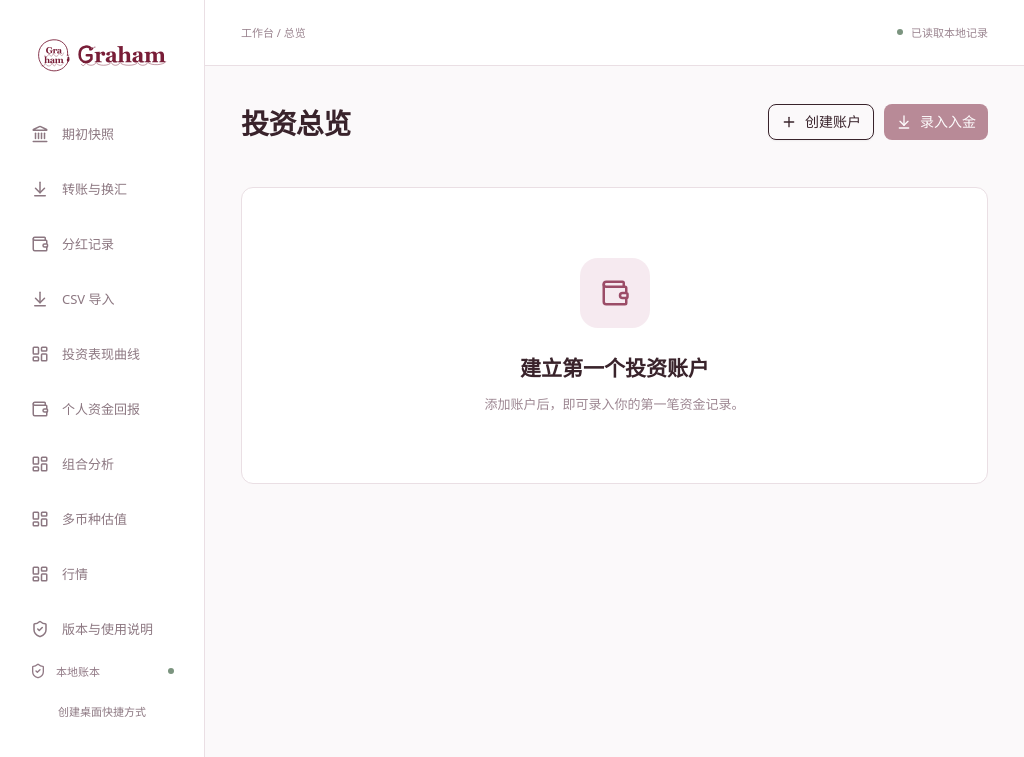
公开汇率诊断结果在定时读取缓存后仍可核对
The width and height of the screenshot is (1024, 757).
(page scrolled)
Click the button "多币种估值": (102, 518) [18,496,186,541]
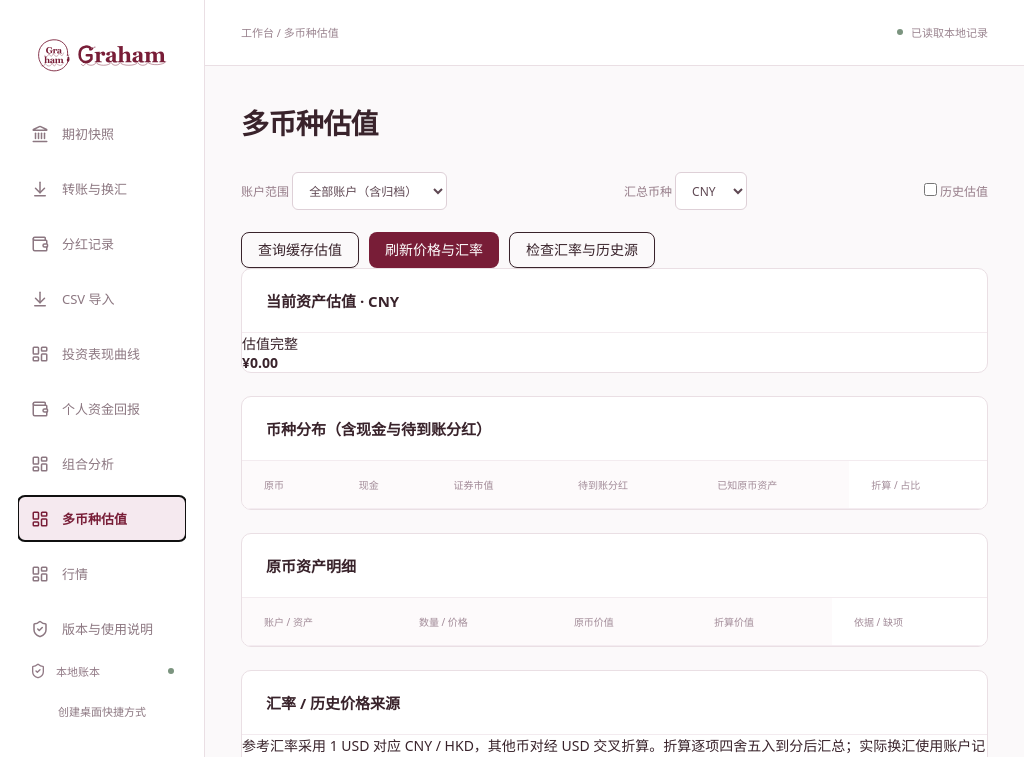
Click the button "检查汇率与历史源": (582, 250) [509,232,655,268]
(page scrolled)
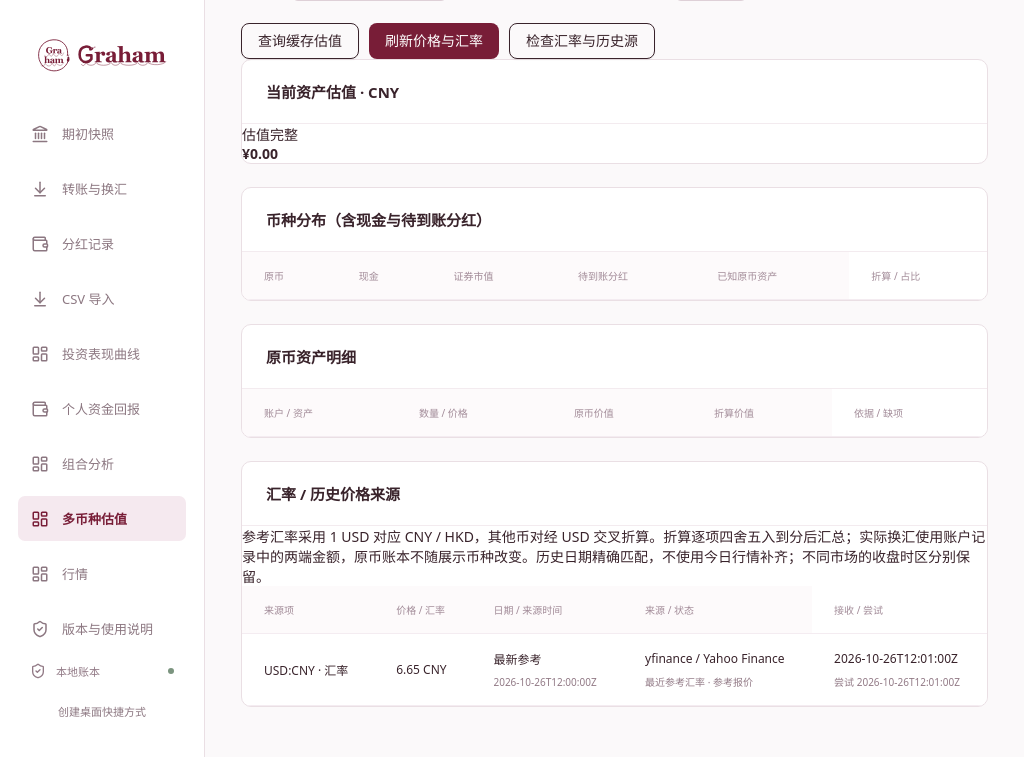
expect the text "6.65 CNY" is shown: met, box [374,634,472,706]
expect the table named "估值来源" shows "6.65 CNY": met, box [396,661,447,678]
